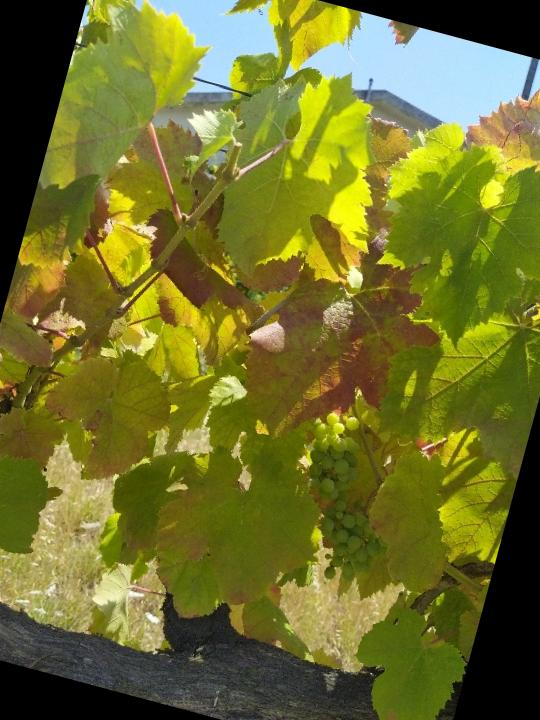grape: (273, 402, 417, 596)
